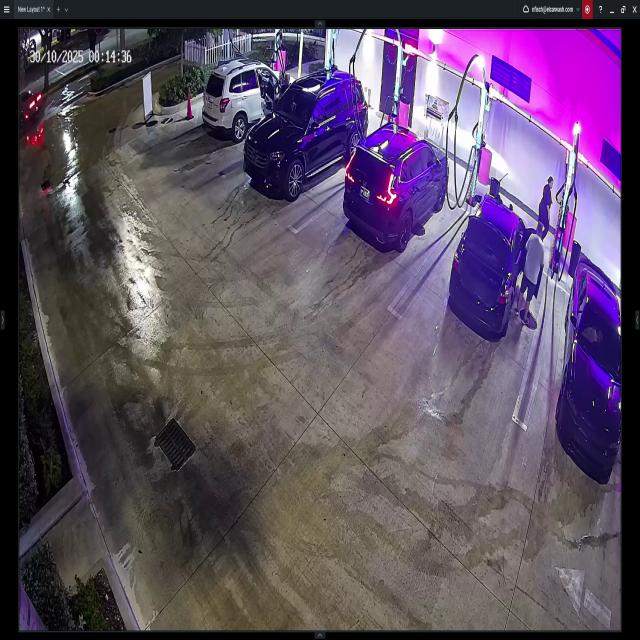Car: (242, 70, 368, 192), (555, 252, 623, 474), (344, 124, 449, 250), (456, 196, 528, 334), (204, 60, 300, 140), (16, 78, 40, 126)
